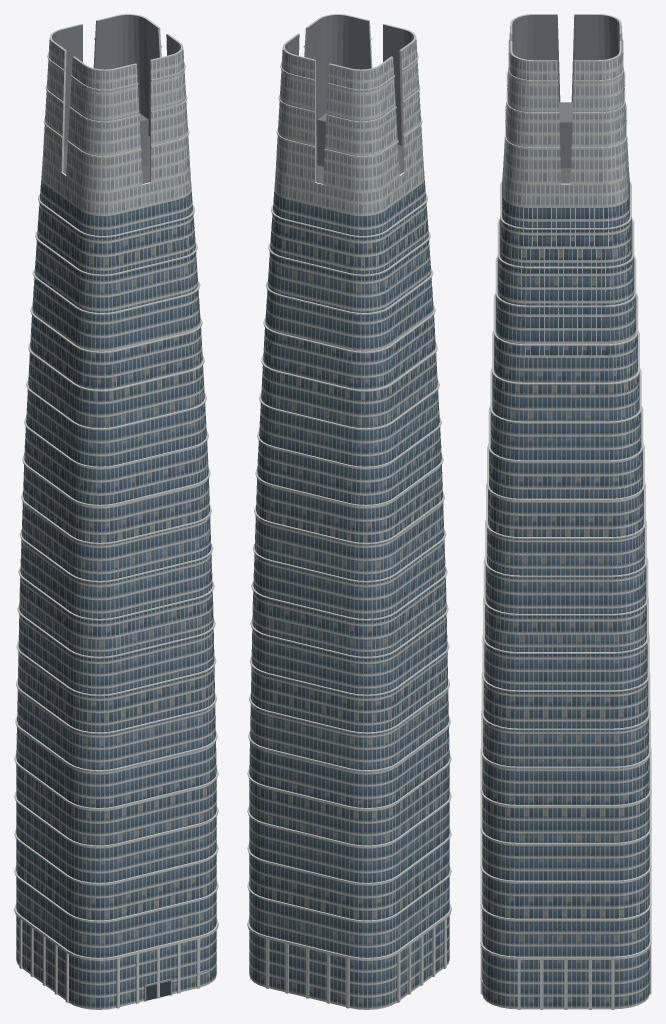
The model's file is salesforce_tower.glb.
3 views of the same model, side by side, from view 1: azimuth 30°, elevation 25°; view 2: azimuth 150°, elevation 25°; view 3: azimuth 270°, elevation 25° (orthographic).
Visible parts, largest first — view 1: salesforce_tower; view 2: salesforce_tower; view 3: salesforce_tower.
Part boxes in pixels (bbox=[...]): salesforce_tower: bbox=[14, 14, 218, 1009]; salesforce_tower: bbox=[247, 14, 451, 1009]; salesforce_tower: bbox=[480, 14, 651, 1009].
Size of the model in its own units: 54 by 326 by 54.
Materials: 3 (3 with a texture image).
